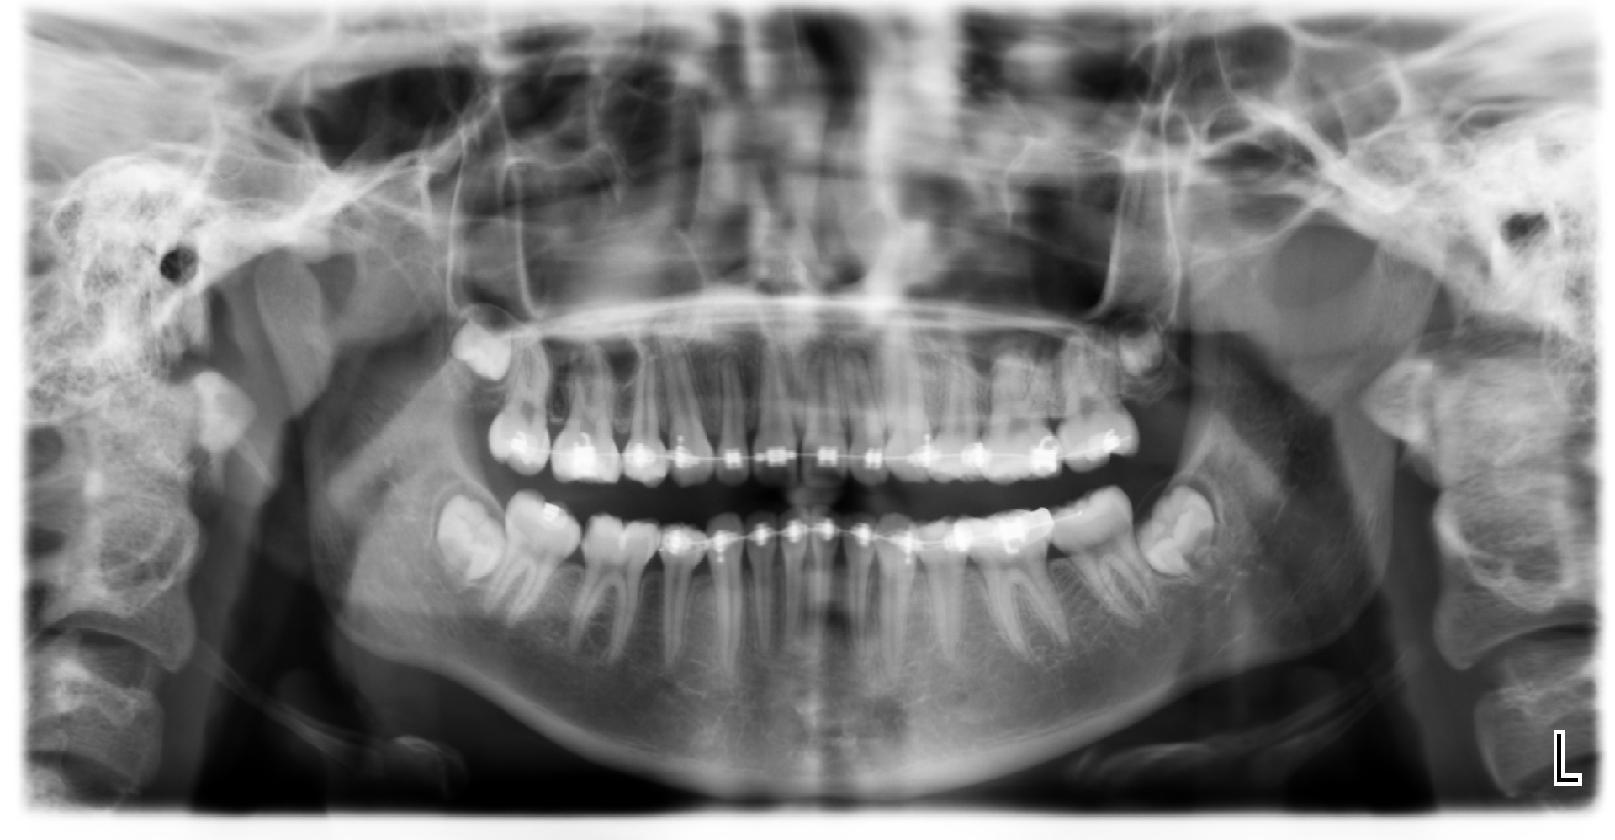Mesio-angular: (1135, 485, 1241, 591), (429, 484, 505, 615)
